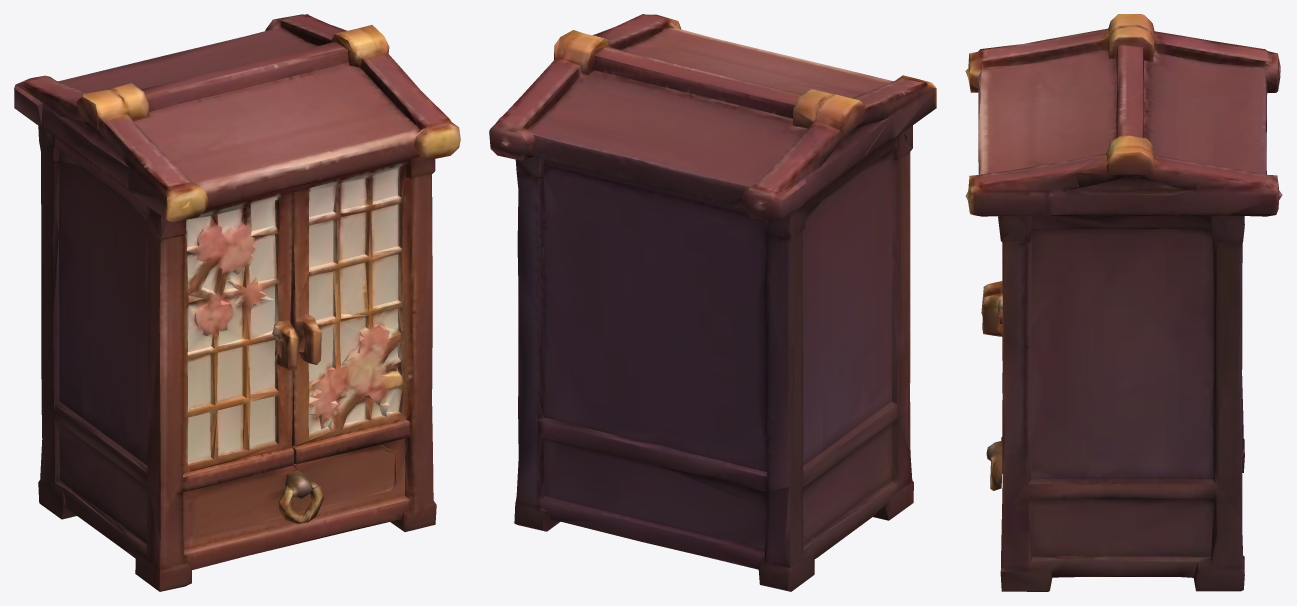
The model's file is cabinet02.glb.
The picture shows the model from 3 angles, left to right: view 1: azimuth 30°, elevation 25°; view 2: azimuth 150°, elevation 25°; view 3: azimuth 270°, elevation 25°; orthographic projection.
Size of the model in its own units: 0.1991 by 0.291 by 0.188.
1 material, 1 textured.
